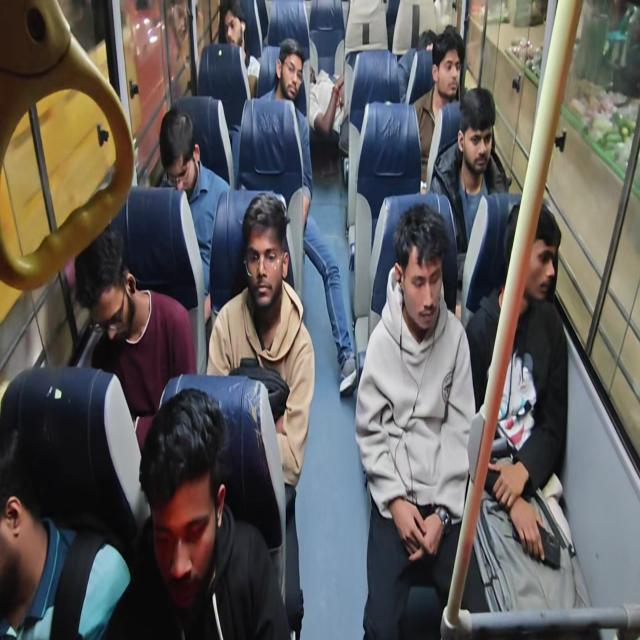person: (354, 202, 478, 638), (464, 200, 591, 615), (206, 192, 315, 637), (103, 386, 292, 639), (0, 365, 138, 639), (258, 37, 358, 395), (74, 225, 196, 454), (158, 106, 230, 321), (428, 86, 510, 253), (412, 25, 465, 189), (218, 1, 260, 100), (165, 0, 202, 99), (260, 37, 305, 103)
